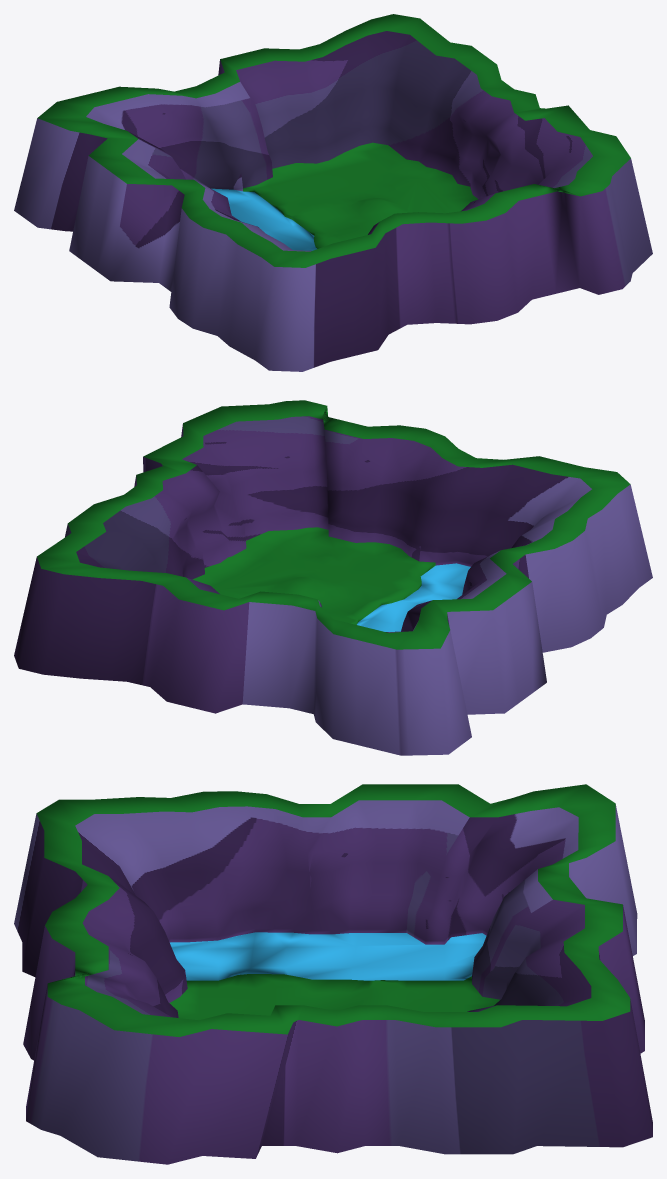
The model's file is Mapa Rio Batalla.fbx.
3 renders of one model, top to bottom at view 1: azimuth 30°, elevation 25°; view 2: azimuth 150°, elevation 25°; view 3: azimuth 270°, elevation 25°, orthographic. The views are drawn at different scales.
Visible parts, largest first — view 1: RioBatalla; view 2: RioBatalla; view 3: RioBatalla.
Part boxes in pixels (bbox=[...]): RioBatalla: bbox=[14, 14, 652, 371]; RioBatalla: bbox=[14, 400, 652, 755]; RioBatalla: bbox=[14, 784, 652, 1164].
Size of the model in its own units: 63955 by 63464 by 12899.
3 materials, 1 textured.
